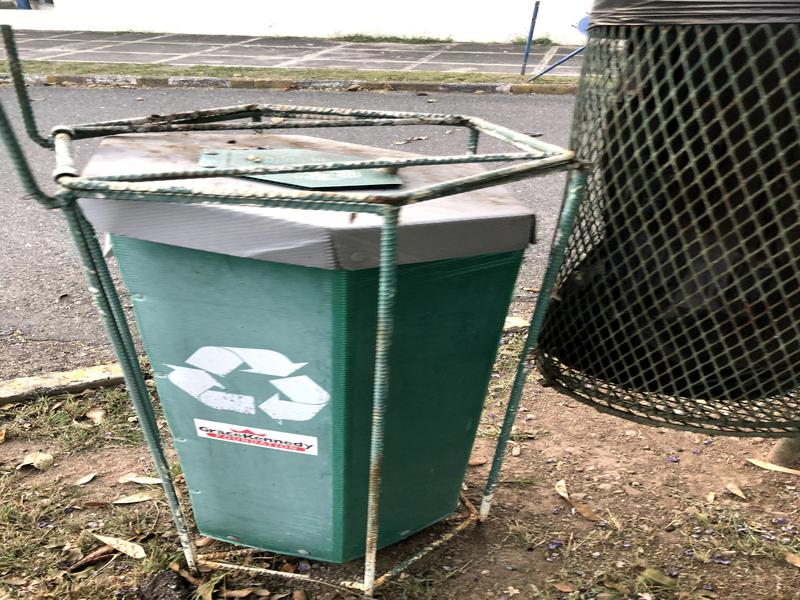18.0053245_-76.7486424_recyclebin: (42, 76, 551, 587)
